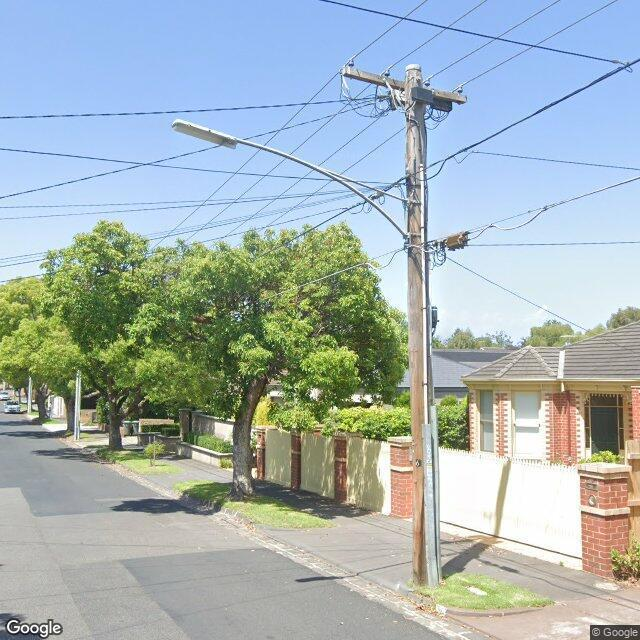crossarm: (341, 67, 467, 104)
streetlight: (172, 119, 410, 242)
timber-pole: (405, 65, 435, 587)
